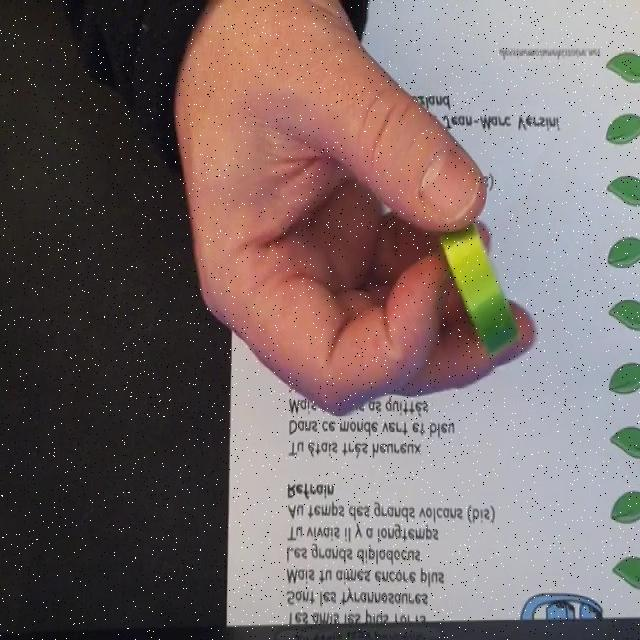round: (438, 215, 518, 359)
